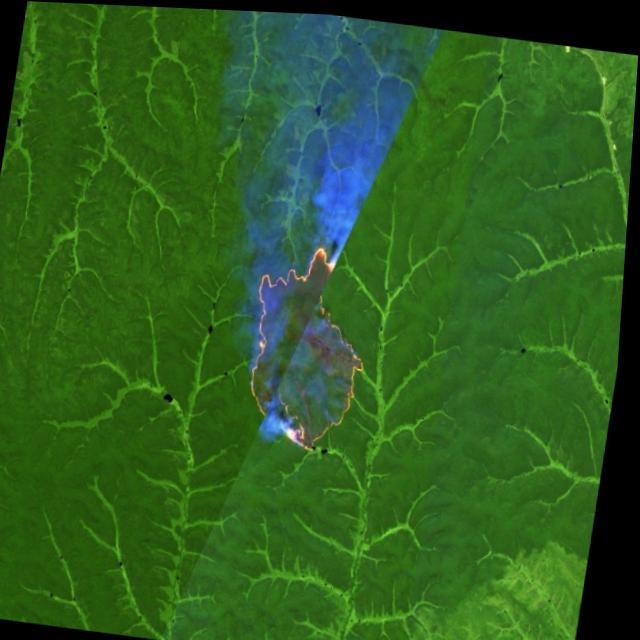fire: (239, 233, 388, 459)
